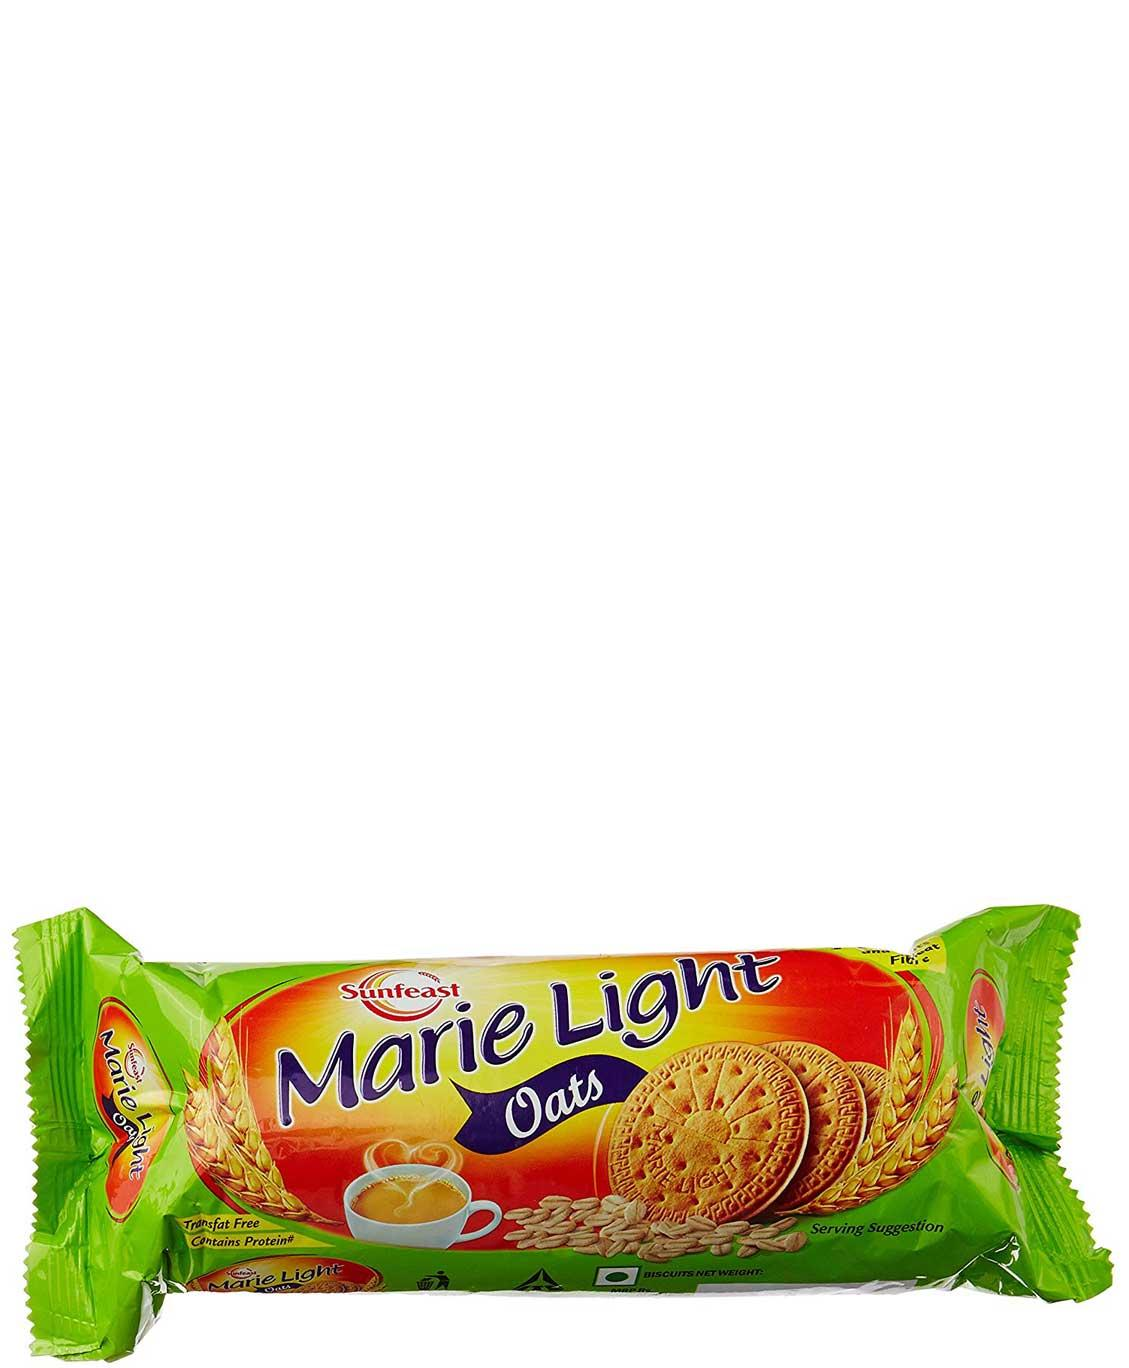MarieLight: (10, 896, 1119, 1367)
